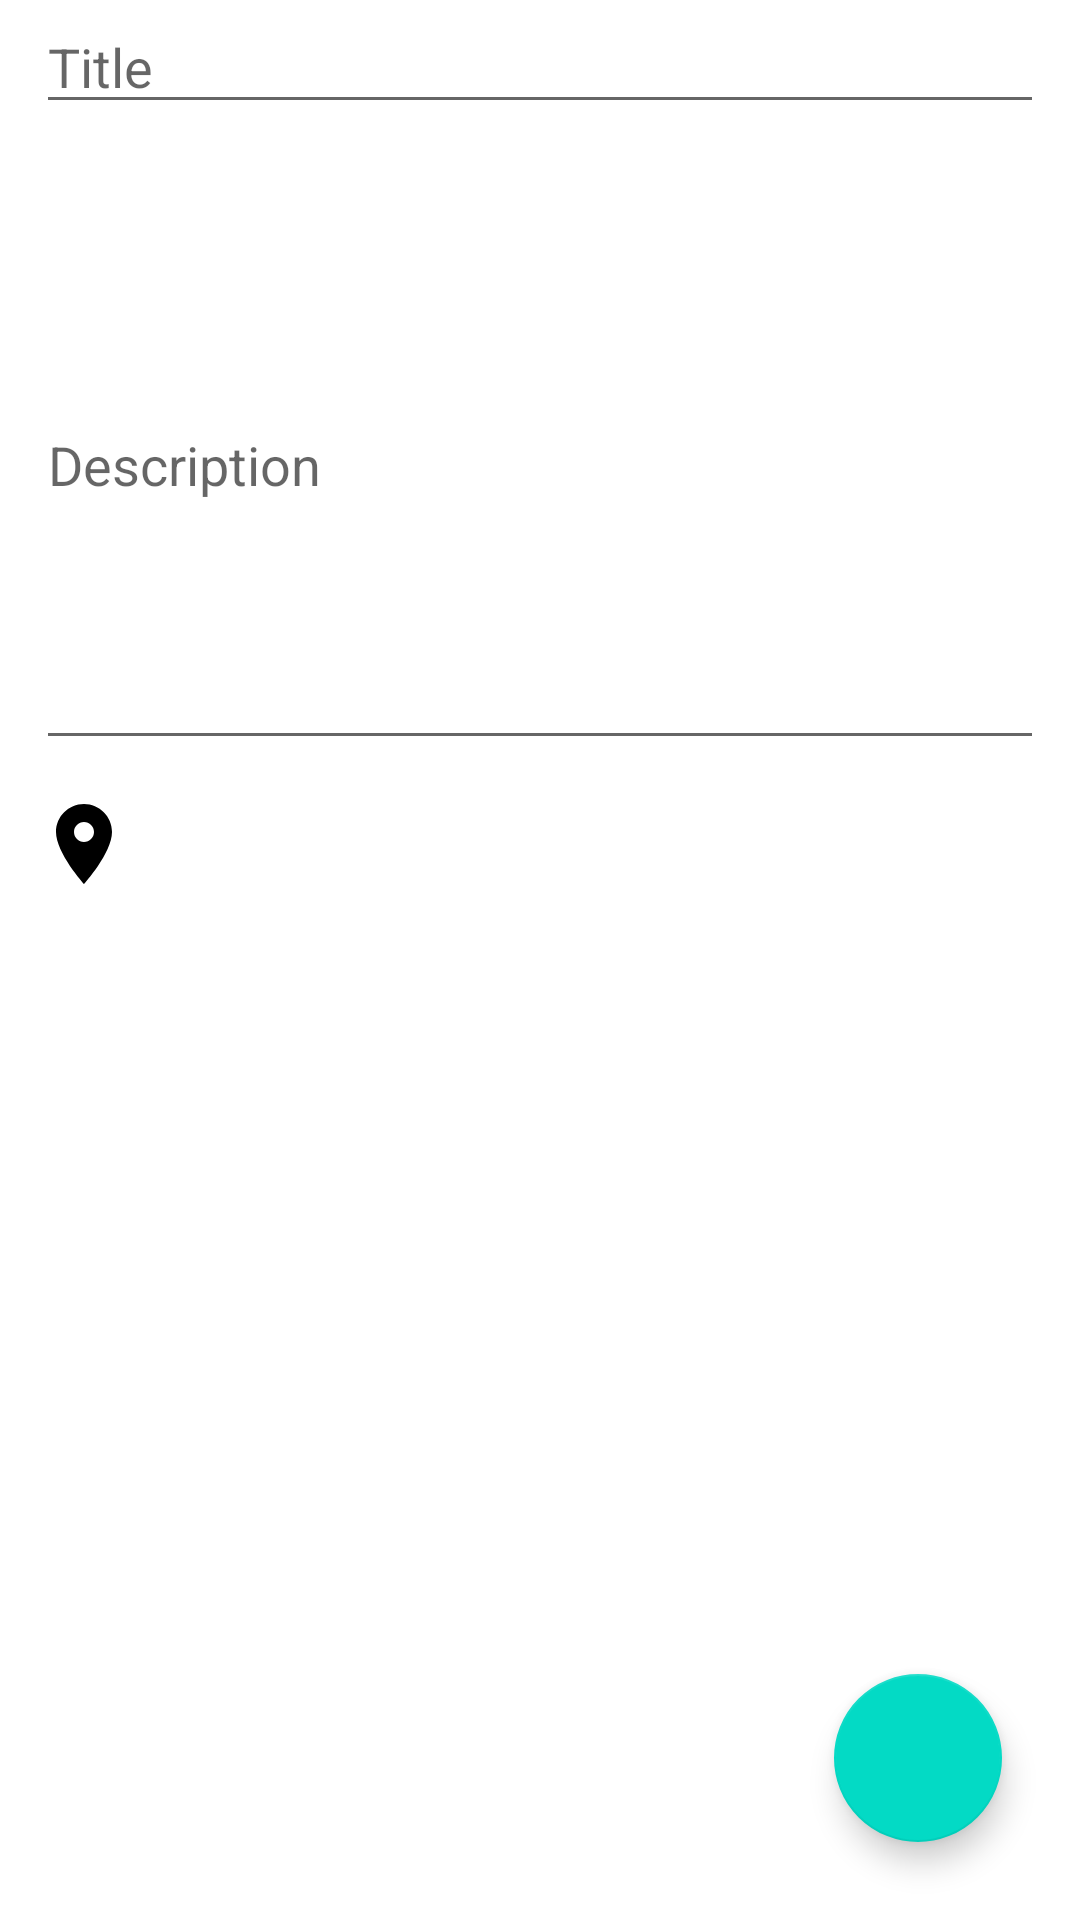

Screen size 1080w x 1920h. Icon name, then its center in pixels as point (x, y):
location on: point (84, 844)
